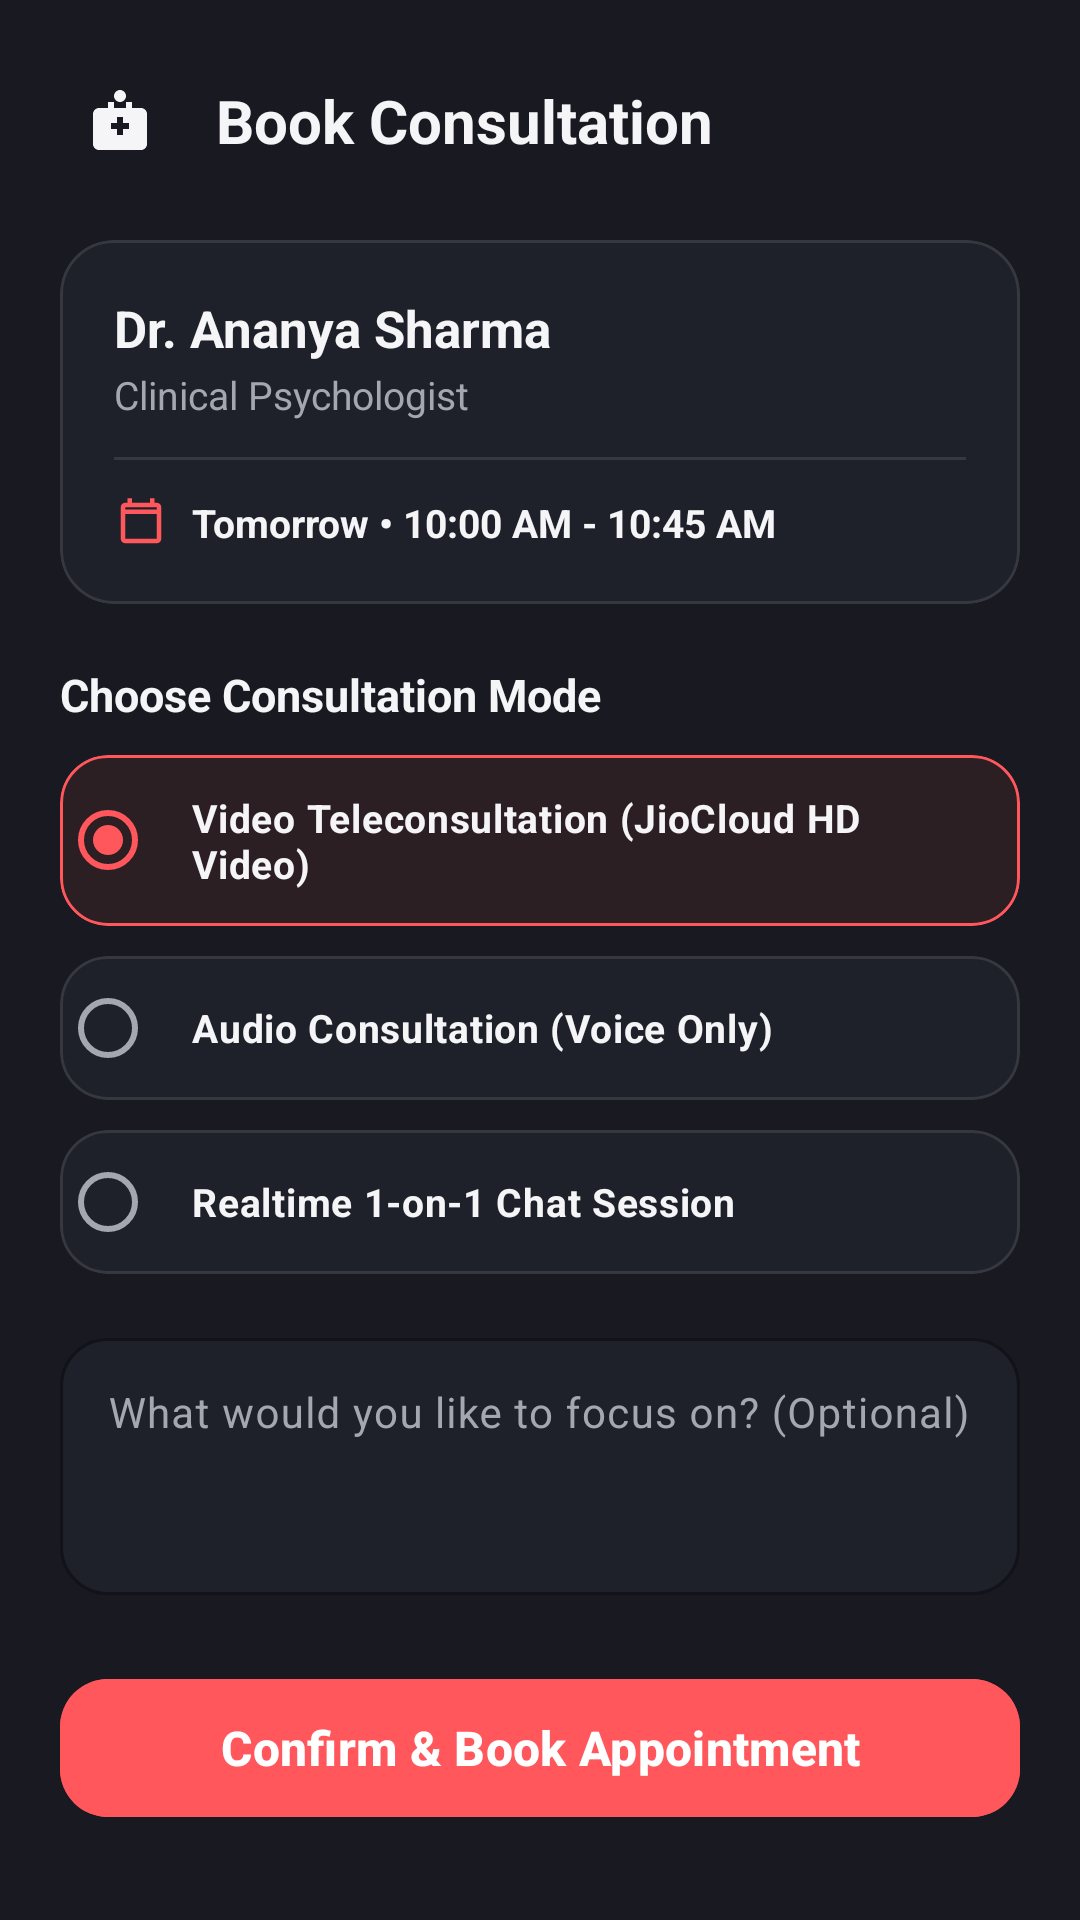

Screen size 1080 × 1920. Icon name, then its center in pixels as (x=x, y=y):
calendar: (x=141, y=521)
doctor: (x=120, y=120)
